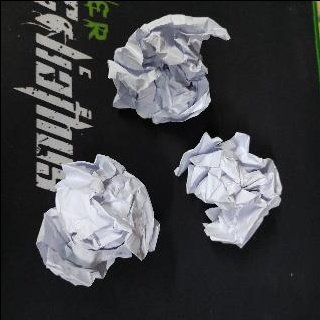8/可回收垃圾/纸: (35, 154, 161, 286), (106, 13, 230, 124), (173, 132, 281, 249)
